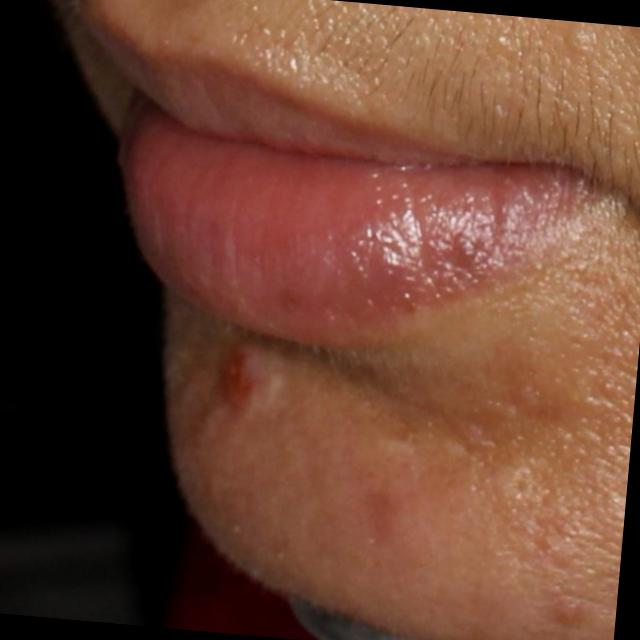nodule: (211, 334, 263, 425)
